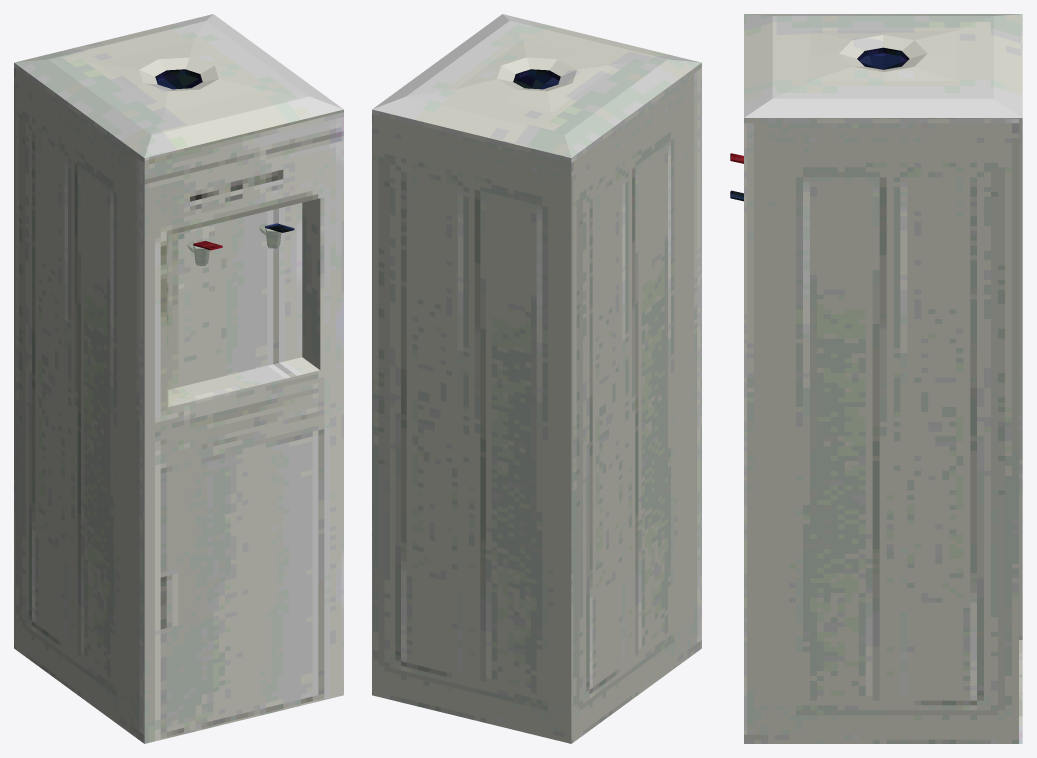
The model's file is 02_water_cooler_destructible.glb.
3 renders of one model, left to right at view 1: azimuth 30°, elevation 25°; view 2: azimuth 150°, elevation 25°; view 3: azimuth 270°, elevation 25°, orthographic. The views are drawn at different scales.
Visible parts, largest first — view 1: water_cooler; view 2: water_cooler; view 3: water_cooler.
Part boxes in pixels (x1=…): water_cooler: x1=14, y1=14, x2=343, y2=743; water_cooler: x1=372, y1=14, x2=701, y2=743; water_cooler: x1=730, y1=14, x2=1022, y2=743.
Size of what is drawn, in the model's own units: 0.3776 by 1.08 by 0.4488.
1 material, 1 textured.
